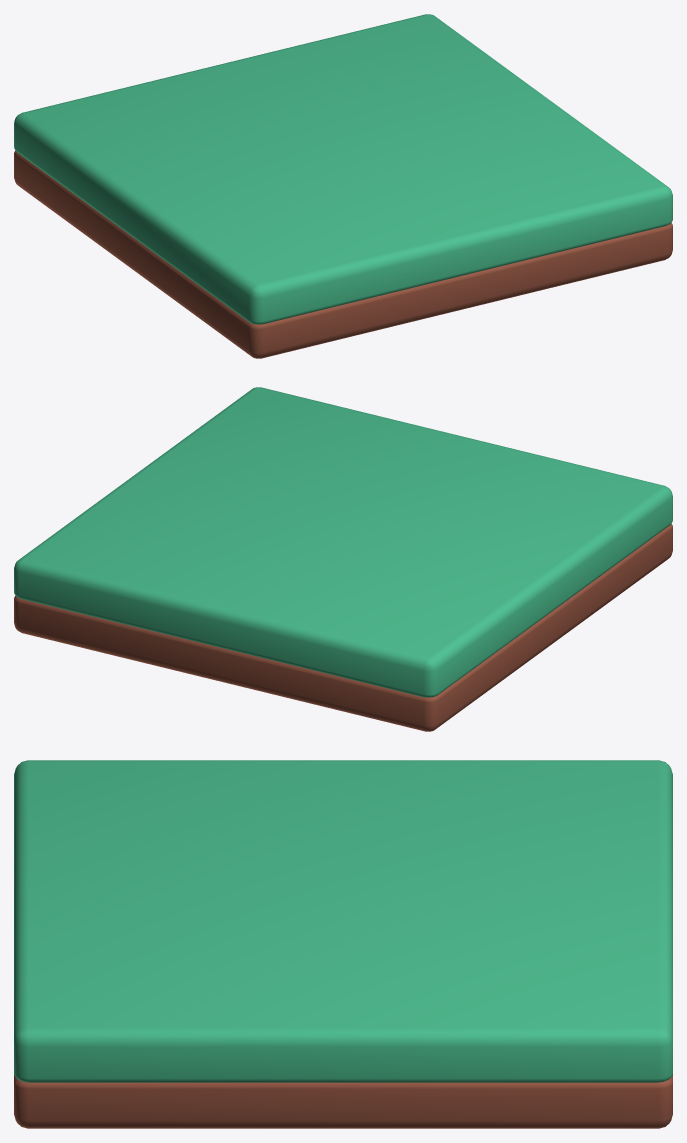
Rendered from tileLarge_forest.glb.
3 views of the same model, one above another, from view 1: azimuth 30°, elevation 25°; view 2: azimuth 150°, elevation 25°; view 3: azimuth 270°, elevation 25° (orthographic). The views are drawn at different scales.
Visible parts, largest first — view 1: tileLarge_forest; view 2: tileLarge_forest; view 3: tileLarge_forest.
Part boxes in pixels (x1,y1,x2,y2): tileLarge_forest: (14, 14, 672, 358); tileLarge_forest: (14, 387, 672, 731); tileLarge_forest: (14, 760, 672, 1128).
Size of the model in its own units: 6 by 1 by 6.
